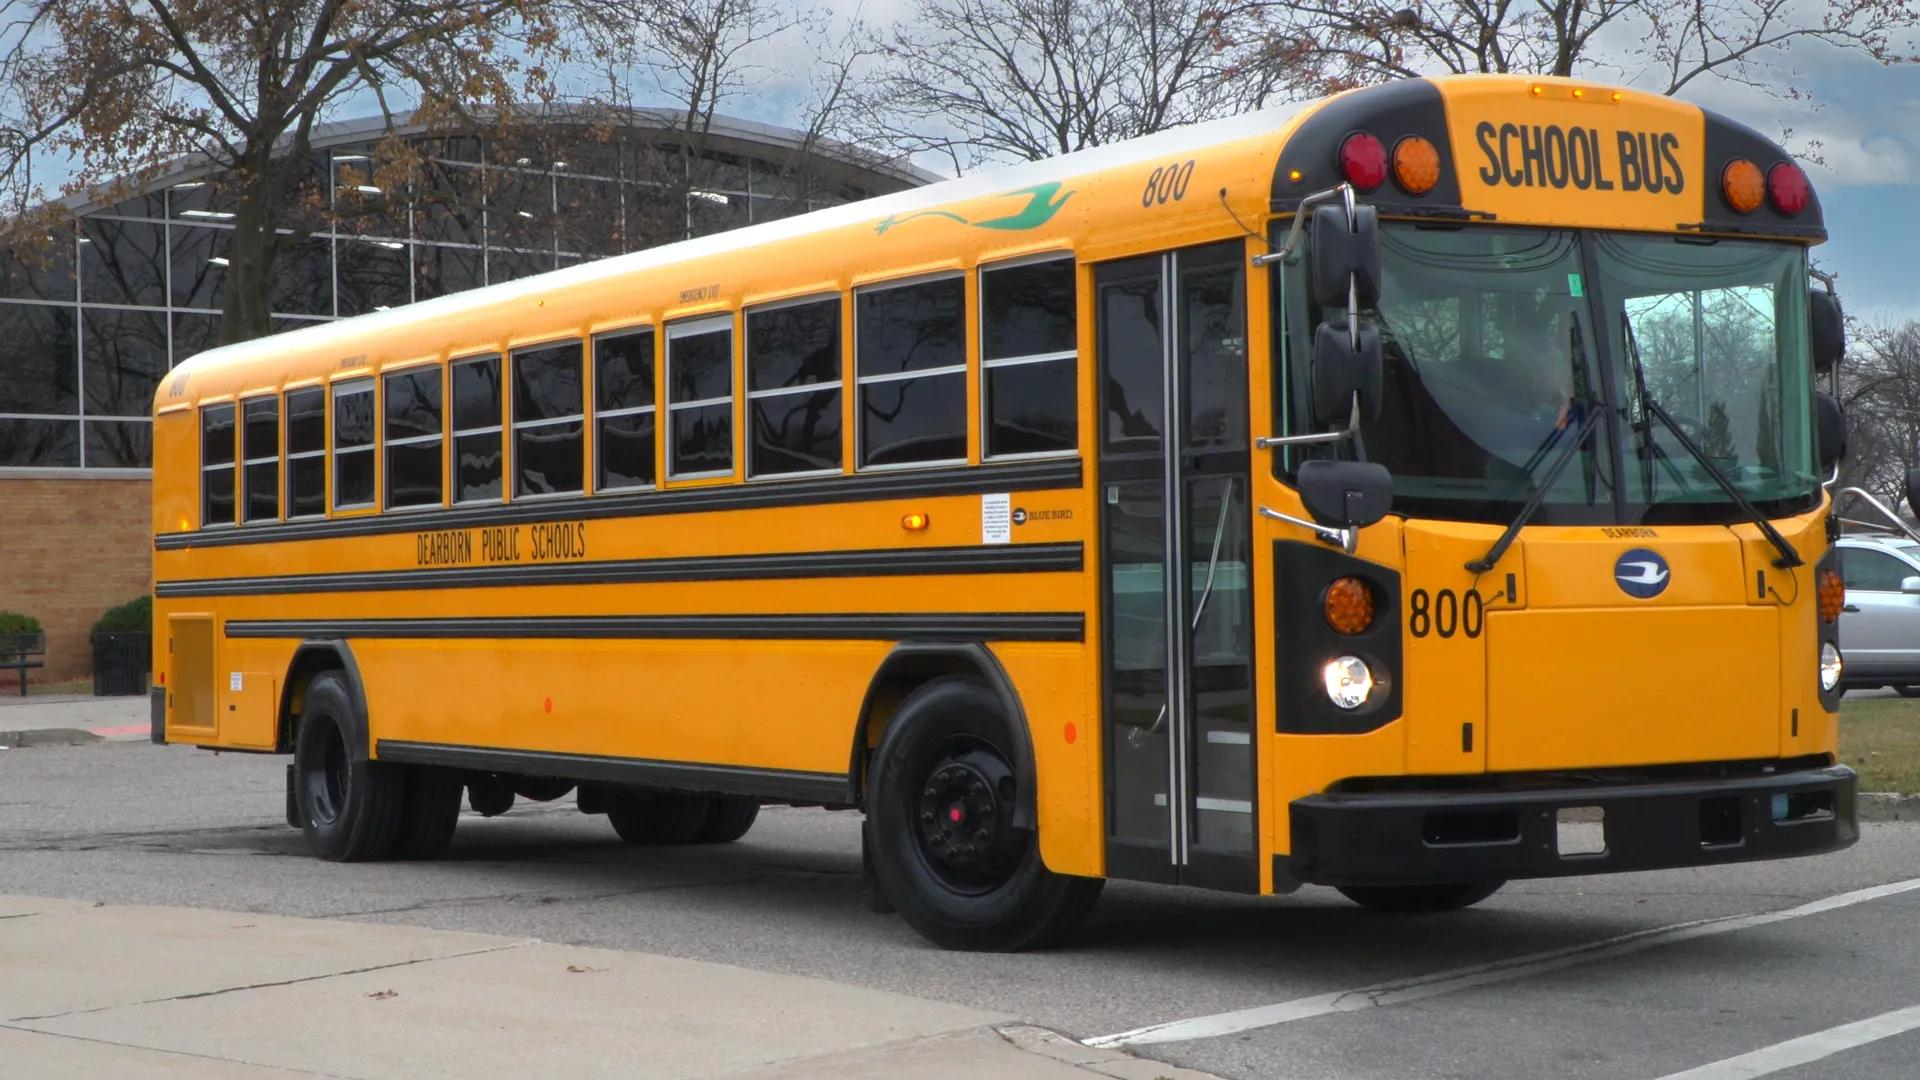bus: (146, 58, 1876, 959)
